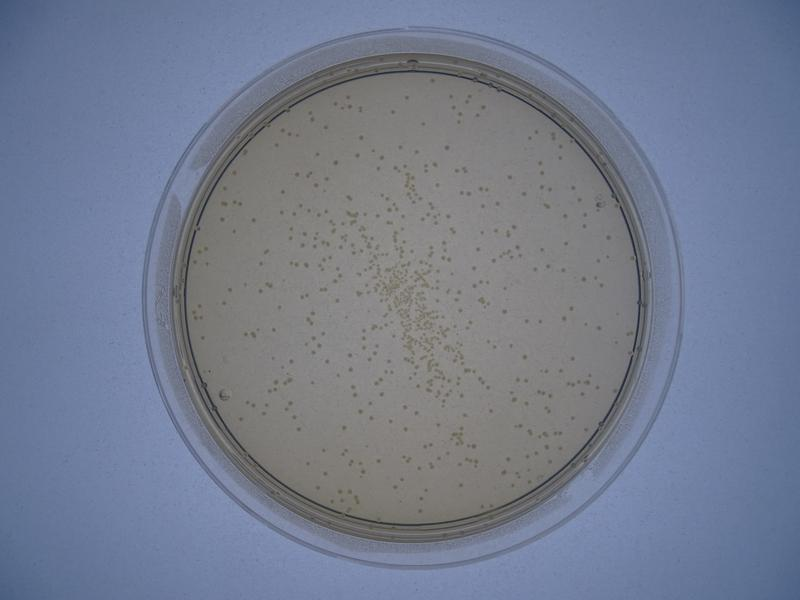colony: (333, 419, 351, 435), (518, 315, 534, 329), (319, 467, 333, 483), (318, 119, 332, 135), (529, 152, 545, 166), (439, 142, 456, 155), (398, 92, 415, 105), (371, 455, 386, 469), (343, 364, 359, 377), (297, 455, 313, 468), (457, 408, 471, 422), (345, 378, 359, 392), (343, 350, 358, 363), (308, 376, 321, 391), (442, 208, 455, 223), (353, 132, 369, 144), (557, 262, 569, 278), (385, 482, 402, 493), (503, 338, 517, 351), (419, 482, 433, 495), (470, 109, 483, 122), (429, 419, 443, 431), (316, 443, 330, 455), (501, 451, 513, 465), (452, 457, 464, 471), (329, 156, 344, 167), (319, 354, 334, 365), (567, 412, 578, 427), (484, 406, 500, 416), (385, 105, 397, 118), (256, 259, 269, 271), (454, 480, 467, 492), (579, 317, 591, 330), (311, 145, 323, 158), (595, 322, 607, 335), (421, 117, 432, 131), (485, 255, 499, 266), (557, 210, 571, 221), (542, 259, 553, 273), (534, 167, 548, 178), (283, 233, 297, 244), (226, 227, 241, 237), (223, 283, 235, 295), (411, 407, 423, 419), (285, 354, 297, 366), (475, 201, 488, 212), (492, 197, 505, 208), (266, 324, 279, 335), (384, 415, 397, 426), (398, 424, 411, 435), (555, 364, 566, 377), (432, 179, 443, 192), (429, 158, 442, 169), (398, 211, 411, 222), (275, 187, 289, 197), (255, 285, 265, 299), (360, 342, 370, 356), (536, 246, 551, 255), (377, 389, 392, 398), (351, 150, 363, 161), (468, 263, 479, 275), (332, 295, 343, 307), (398, 400, 410, 411), (352, 406, 364, 417), (365, 397, 376, 409), (453, 116, 464, 128), (511, 373, 522, 385), (275, 206, 286, 218), (603, 231, 613, 244), (288, 169, 301, 179), (579, 219, 589, 232), (518, 189, 529, 200), (247, 215, 258, 226), (376, 151, 387, 162), (366, 413, 377, 424), (411, 147, 423, 157), (218, 298, 230, 308), (535, 315, 545, 327), (289, 413, 301, 423), (318, 328, 328, 340), (301, 258, 311, 270), (594, 253, 603, 266), (504, 172, 515, 182), (274, 301, 284, 312), (519, 350, 529, 361), (293, 424, 304, 434), (568, 352, 578, 363), (357, 323, 367, 334), (455, 186, 465, 197), (395, 141, 404, 153), (478, 227, 487, 239), (471, 245, 483, 254), (492, 223, 500, 236), (529, 265, 542, 273), (514, 239, 522, 252), (567, 303, 577, 313), (559, 313, 569, 323), (373, 164, 383, 174), (578, 273, 588, 283), (307, 181, 319, 189), (323, 174, 332, 184), (307, 347, 317, 356), (598, 281, 606, 292), (562, 238, 569, 250), (498, 306, 508, 314), (491, 343, 498, 353)
